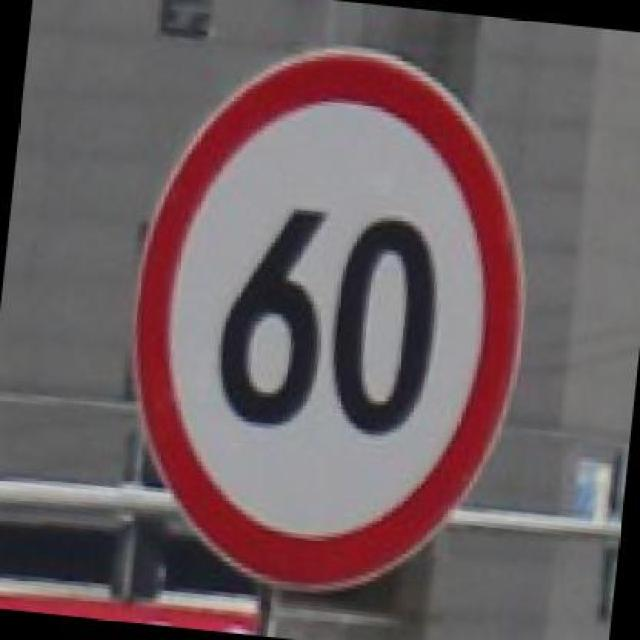Limite-60: (131, 46, 526, 595)
